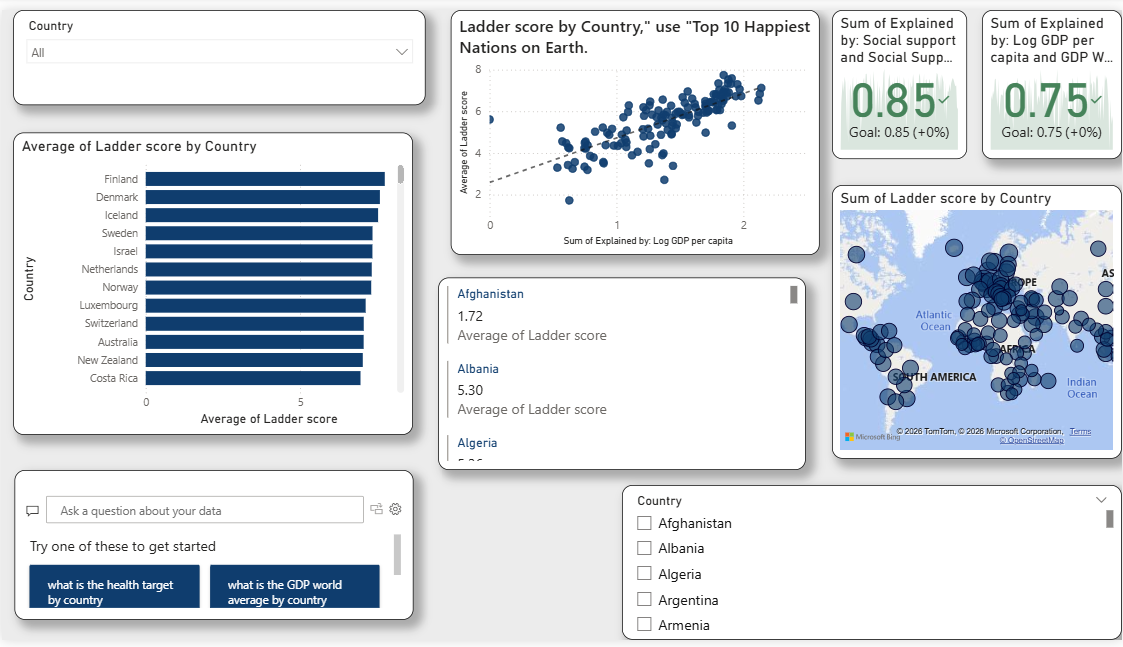

The dashboard page shown, as its layout file describes it:
{"tool":"powerbi","page":{"name":"Page 1","canvas":[1280,720],"ordinal":0},"visuals":[{"type":"clusteredBarChart","fields":{"Category":["whr2024.Country"],"Y":["Avg(whr2024.Ladder score)"]},"box":[12.9,140,457.1,345.7],"z":0},{"type":"slicer","fields":{"Values":["whr2024.Country"]},"box":[12.9,0,471.4,108.6],"z":1000},{"type":"scatterChart","title":"Ladder score by Country,\" use \"Top 10 Happiest Nations on Earth.","fields":{"X":["Sum(whr2024.Explained by: Log GDP per capita)"],"Y":["Avg(whr2024.Ladder score)"],"Category":["whr2024.Country"]},"box":[512.9,0,421.4,280],"z":2000},{"type":"multiRowCard","fields":{"Values":["whr2024.Country","Avg(whr2024.Ladder score)"]},"box":[498.6,305.7,420,220],"z":3000},{"type":"kpi","fields":{"Indicator":["Sum(whr2024.Explained by: Social support)"],"TrendLine":["whr2024.Country"],"Goal":["whr2024.Social Support Target"]},"box":[948.6,0,154.3,170],"z":4000},{"type":"kpi","fields":{"Indicator":["Sum(whr2024.Explained by: Log GDP per capita)"],"TrendLine":["whr2024.Country"],"Goal":["whr2024.GDP World Average"]},"box":[1120,0,160,170],"z":5000},{"type":"qnaVisual","box":[14.3,525.7,455.7,171.4],"z":6000},{"type":"slicer","fields":{"Values":["whr2024.Country"]},"box":[708.6,542.9,571.4,177.1],"z":7000},{"type":"map","fields":{"Category":["whr2024.Country"],"Size":["Sum(whr2024.Ladder score)"]},"box":[948.6,200,331.4,312.9],"z":8000}]}

Visuals, with their boxes in screenshot pixels (x1, y1, x2, y2), scaled from the page's 1280x720 canvas onto the 1123x647 screenshot:
clusteredBarChart - whr2024.Country x Avg(whr2024.Ladder score): l=11, t=126, r=412, b=436
slicer - whr2024.Country: l=11, t=0, r=425, b=98
"Ladder score by Country," use "Top 10 Happiest Nations on Earth." scatterChart: l=450, t=0, r=820, b=252
multiRowCard - whr2024.Country x Avg(whr2024.Ladder score): l=437, t=275, r=806, b=472
kpi - Sum(whr2024.Explained by: Social support) x whr2024.Country: l=832, t=0, r=968, b=153
kpi - Sum(whr2024.Explained by: Log GDP per capita) x whr2024.Country: l=983, t=0, r=1122, b=153
qnaVisual: l=13, t=472, r=412, b=626
slicer - whr2024.Country: l=622, t=488, r=1122, b=646
map - whr2024.Country x Sum(whr2024.Ladder score): l=832, t=180, r=1122, b=461
